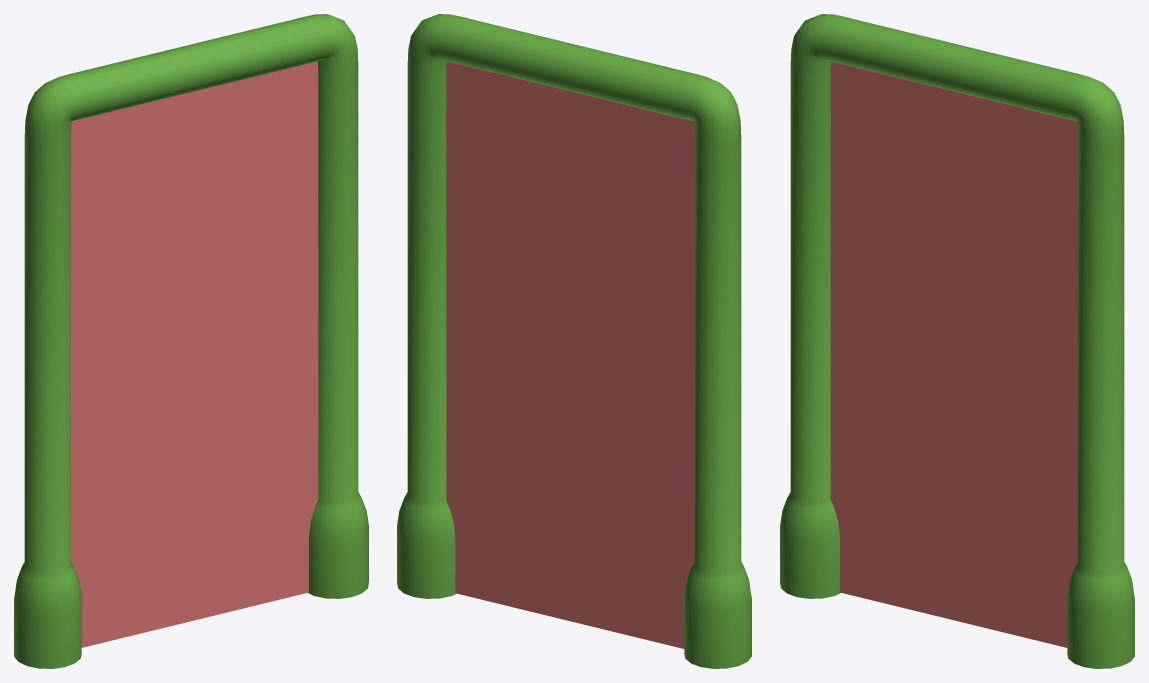
Rendered from Doors_Green_2.fbx.
3 renders of one model, left to right at view 1: azimuth 30°, elevation 25°; view 2: azimuth 150°, elevation 25°; view 3: azimuth 330°, elevation 25°, orthographic.
Parts seen in each view (by area): view 1: Plane 1, Doors Framework; view 2: Plane 2, Doors Framework; view 3: Plane 1, Doors Framework.
Boxes of the visible parts, x1,y1,x2,y2 form: Plane 1: (71, 61, 318, 647); Doors Framework: (14, 14, 368, 668); Plane 2: (446, 61, 694, 648); Doors Framework: (397, 14, 751, 668); Plane 1: (830, 61, 1077, 647); Doors Framework: (780, 14, 1134, 668).
Bounding box in the file's own units: 135 × 213 × 23.01.
Materials: 2 (2 with a texture image).
